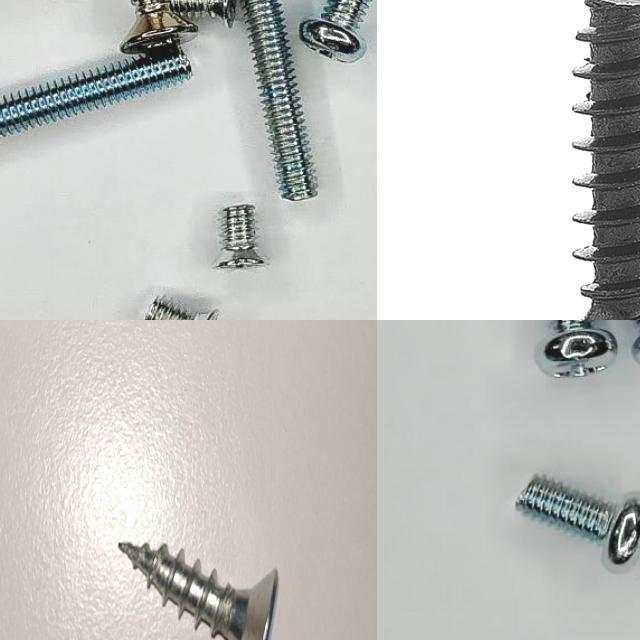Screw: (0, 49, 190, 138), (118, 541, 279, 640), (242, 0, 318, 200), (516, 476, 640, 568), (535, 320, 617, 377), (300, 0, 371, 63), (120, 0, 197, 54), (214, 205, 264, 269), (169, 0, 236, 27), (144, 298, 218, 320)
